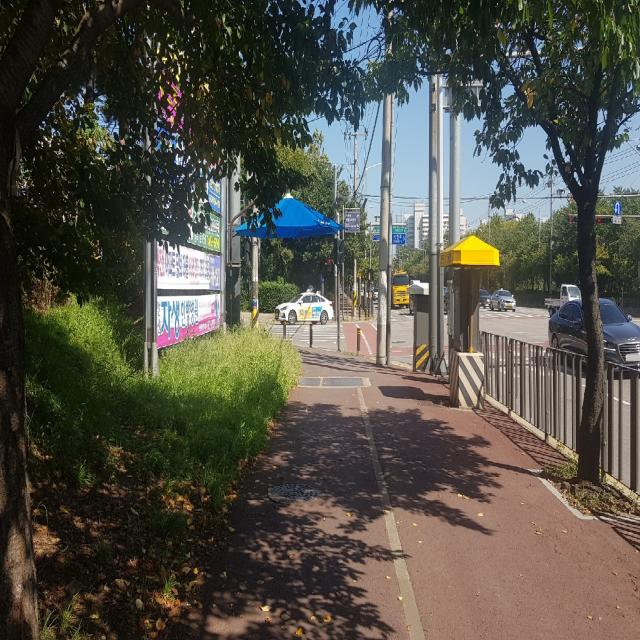빨간불: (327, 257, 334, 277)
횡단보도: (265, 324, 345, 344)
